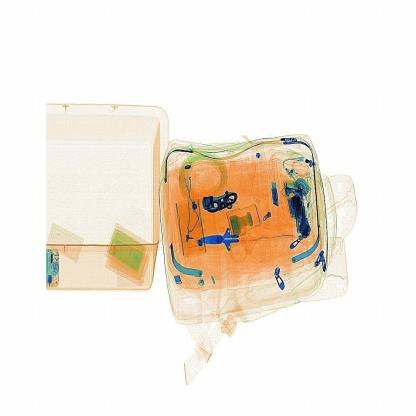gun: (186, 213, 252, 267)
